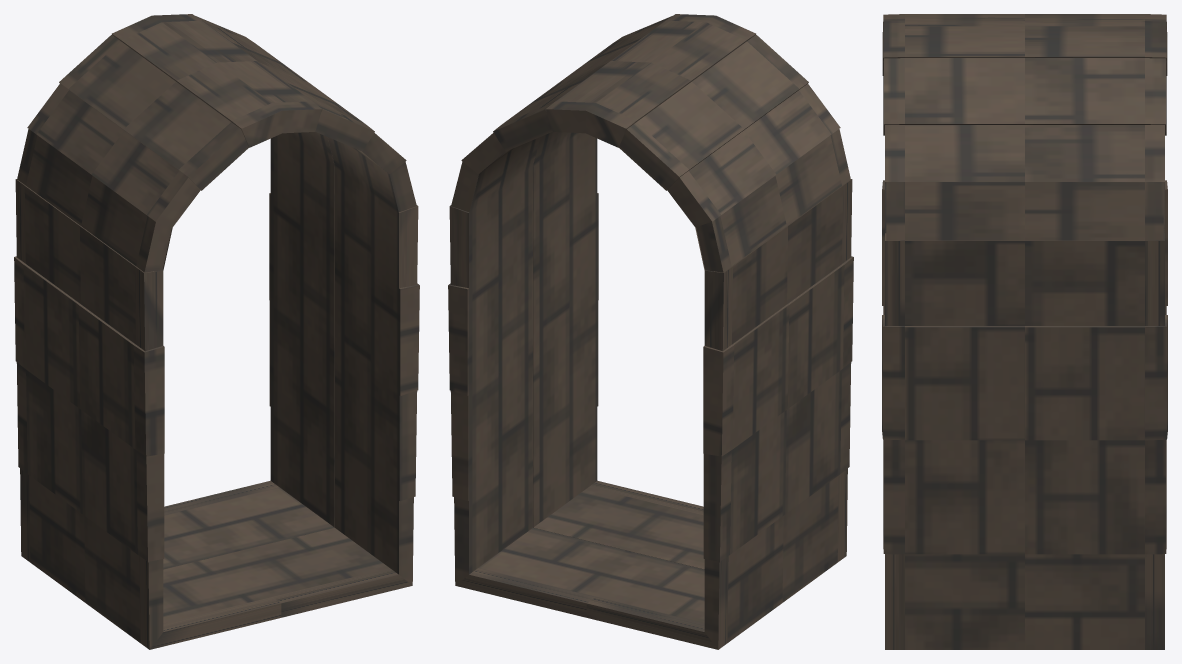
The model's file is cadre porte.fbx.
The picture shows the model from 3 angles, left to right: view 1: azimuth 30°, elevation 25°; view 2: azimuth 150°, elevation 25°; view 3: azimuth 270°, elevation 25°; orthographic projection. The views are drawn at different scales.
Visible parts, largest first — view 1: Object002; view 2: Object002; view 3: Object002.
Boxes of the visible parts, x1,y1,x2,y2 form: Object002: [14, 14, 419, 649]; Object002: [448, 14, 853, 649]; Object002: [882, 14, 1167, 649].
Bounding box in the file's own units: 170 × 299 × 140.
